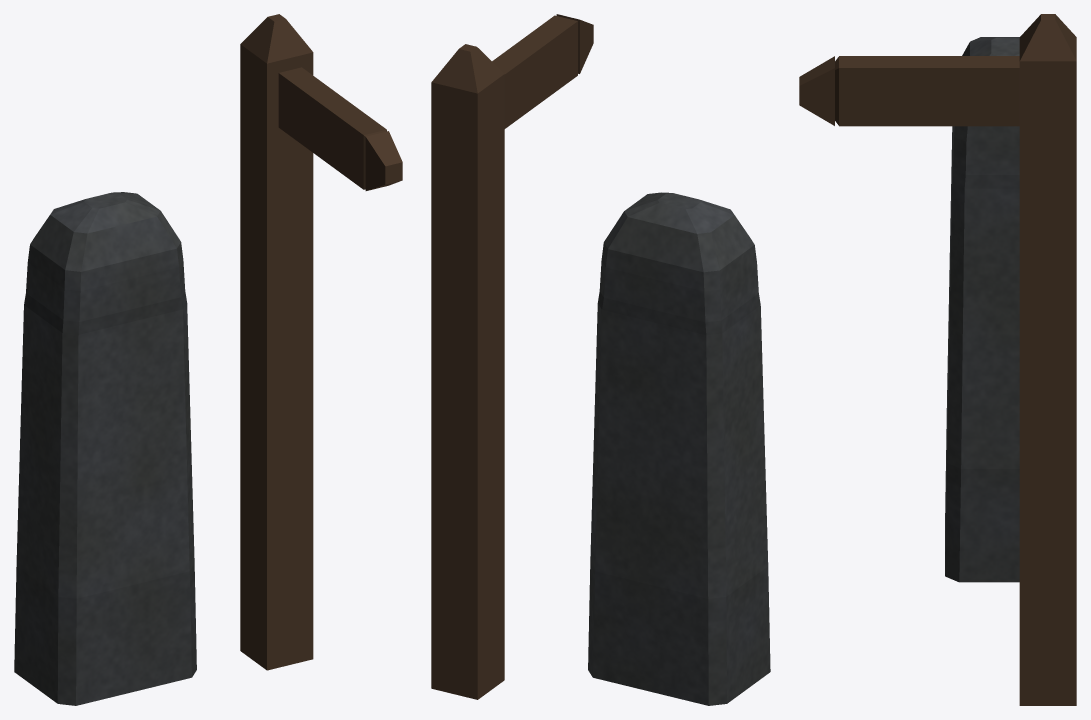
The picture shows the model from 3 angles, left to right: view 1: azimuth 30°, elevation 25°; view 2: azimuth 150°, elevation 25°; view 3: azimuth 270°, elevation 25°; orthographic projection. The views are drawn at different scales.
Parts seen in each view (by area): view 1: Mesh_WaymarkGranite, Mesh_WaymarkOak; view 2: Mesh_WaymarkGranite, Mesh_WaymarkOak; view 3: Mesh_WaymarkOak, Mesh_WaymarkGranite.
Part boxes in pixels (x1,y1,x2,y2): Mesh_WaymarkGranite: (14,192,196,705); Mesh_WaymarkOak: (240,14,402,670); Mesh_WaymarkGranite: (588,192,770,705); Mesh_WaymarkOak: (431,14,593,699); Mesh_WaymarkOak: (799,14,1076,705); Mesh_WaymarkGranite: (945,37,1019,582).
Bounding box in the file's own units: 0.98 × 2.1 × 0.78.
2 materials, 1 textured.
